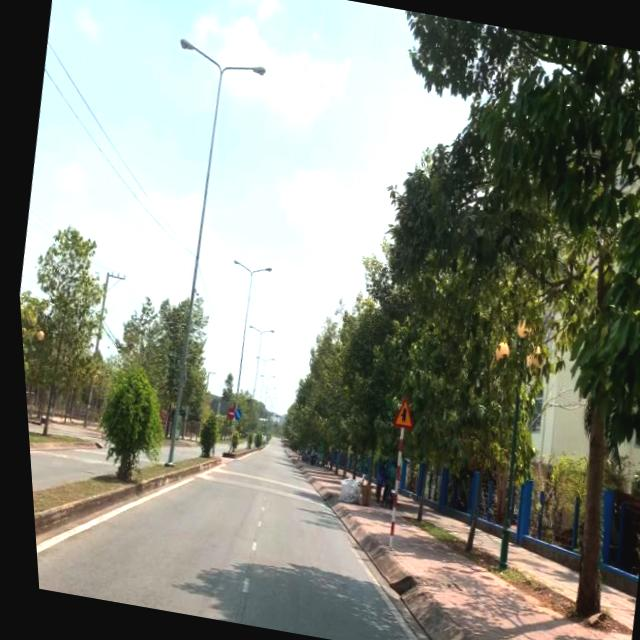Cam di nguoc chieu: (221, 406, 229, 418)
Giao nhau voi duong khong uu tien ben trai: (384, 394, 412, 429)
Vong chuong ngai vat sang phai: (227, 408, 236, 421)
